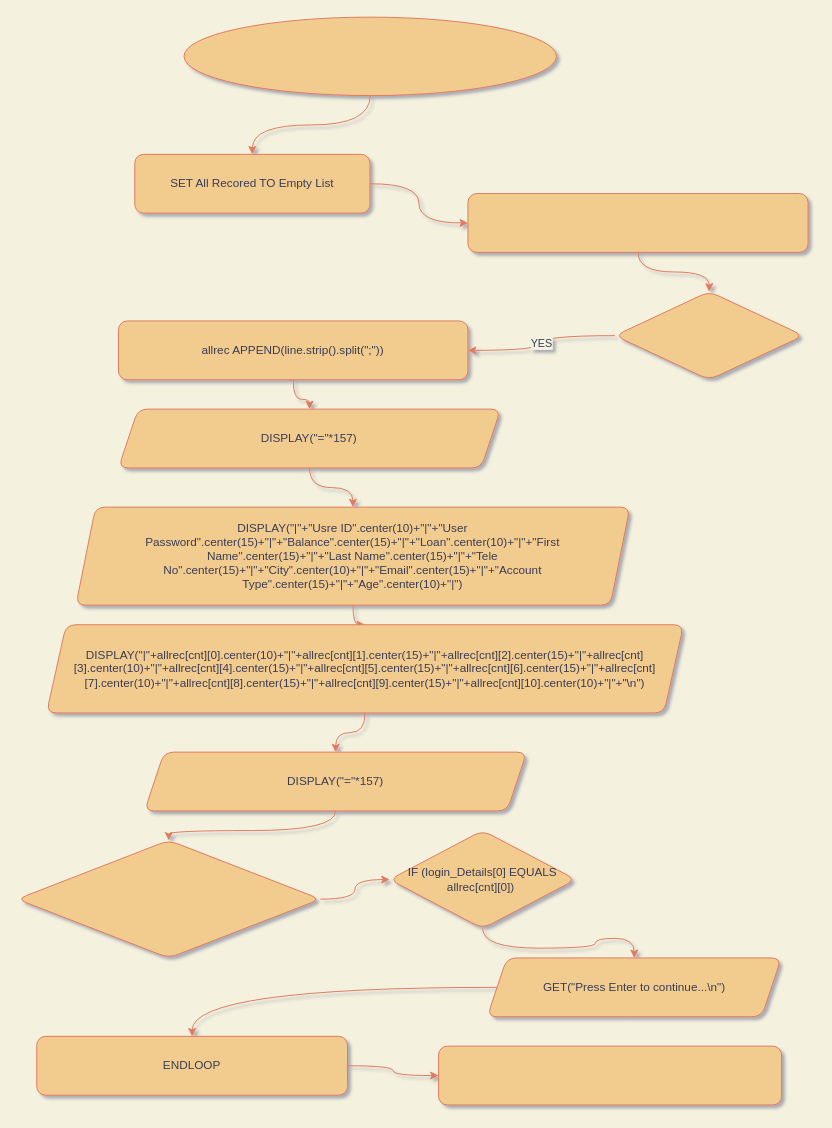
The diagram is 832 pixels wide and 1128 high, and some of its shapes have lost their labels. The centre of each missing label's shape, as x and y in pixels:
DEFINE Display_Details(login_Details): point (369, 56)
ENDDEFINE: point (610, 1075)
LOOP cnt IN RANGE(0,LENGTH(allrec)): point (168, 898)
LOOP line IN FILE HANDLE: point (708, 335)
WITH OPEN("user_id & pass.txt","r") as FILE HANDLE THEN: point (637, 222)
